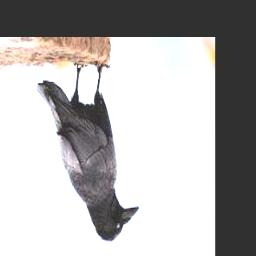Crow: (37, 63, 140, 243)
